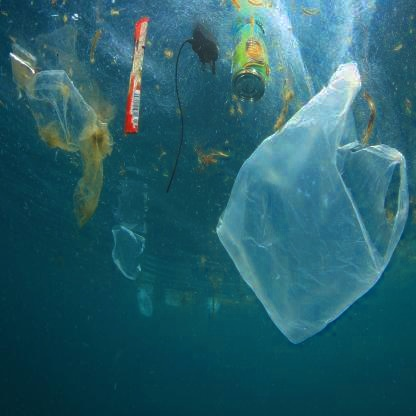can: (230, 16, 269, 105)
electronics: (165, 20, 219, 197)
pbag: (217, 60, 410, 345), (23, 69, 115, 229), (110, 223, 146, 282), (136, 287, 154, 321)
plastic: (124, 14, 151, 140)
